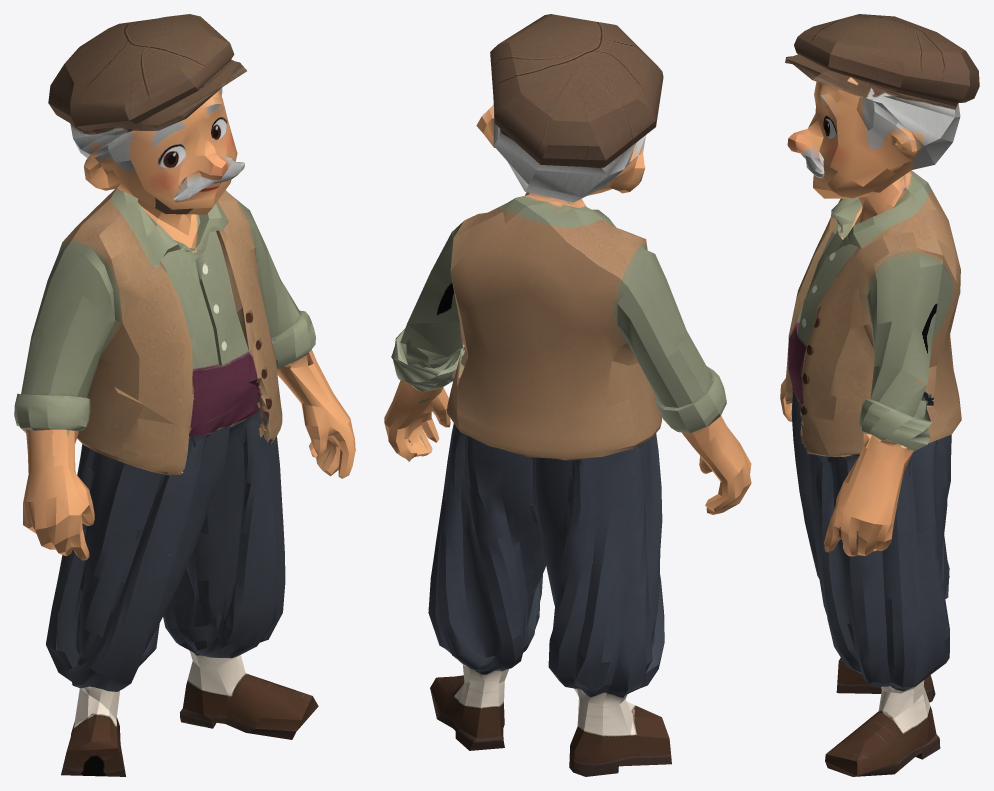
File: hasan-amca.glb
3 views of the same model, side by side, from view 1: azimuth 30°, elevation 25°; view 2: azimuth 150°, elevation 25°; view 3: azimuth 270°, elevation 25° (orthographic). The views are drawn at different scales.
Parts seen in each view (by area): view 1: Mesh0; view 2: Mesh0; view 3: Mesh0.
Boxes of the visible parts, <box> form: Mesh0: <box>14,14,355,776</box>; Mesh0: <box>384,14,751,776</box>; Mesh0: <box>780,14,979,776</box>.
Size of the model in its own units: 0.9353 by 1.9 by 0.4932.
1 material, 1 textured.
